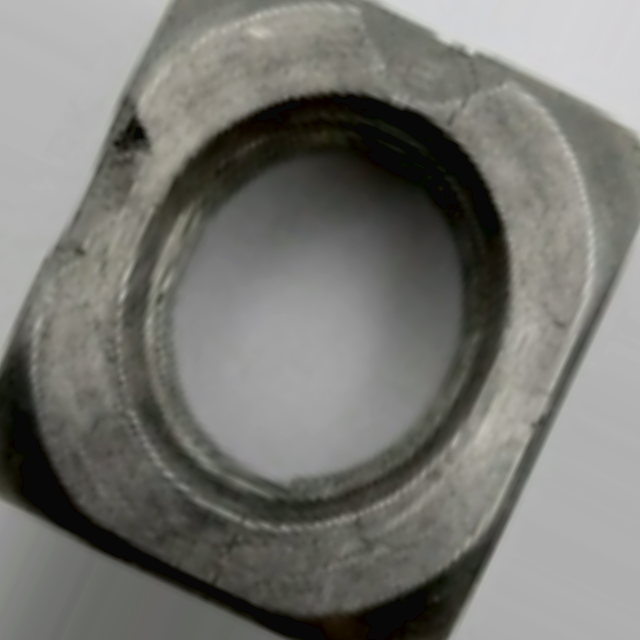defect: (28, 87, 151, 306), (355, 2, 515, 88)
